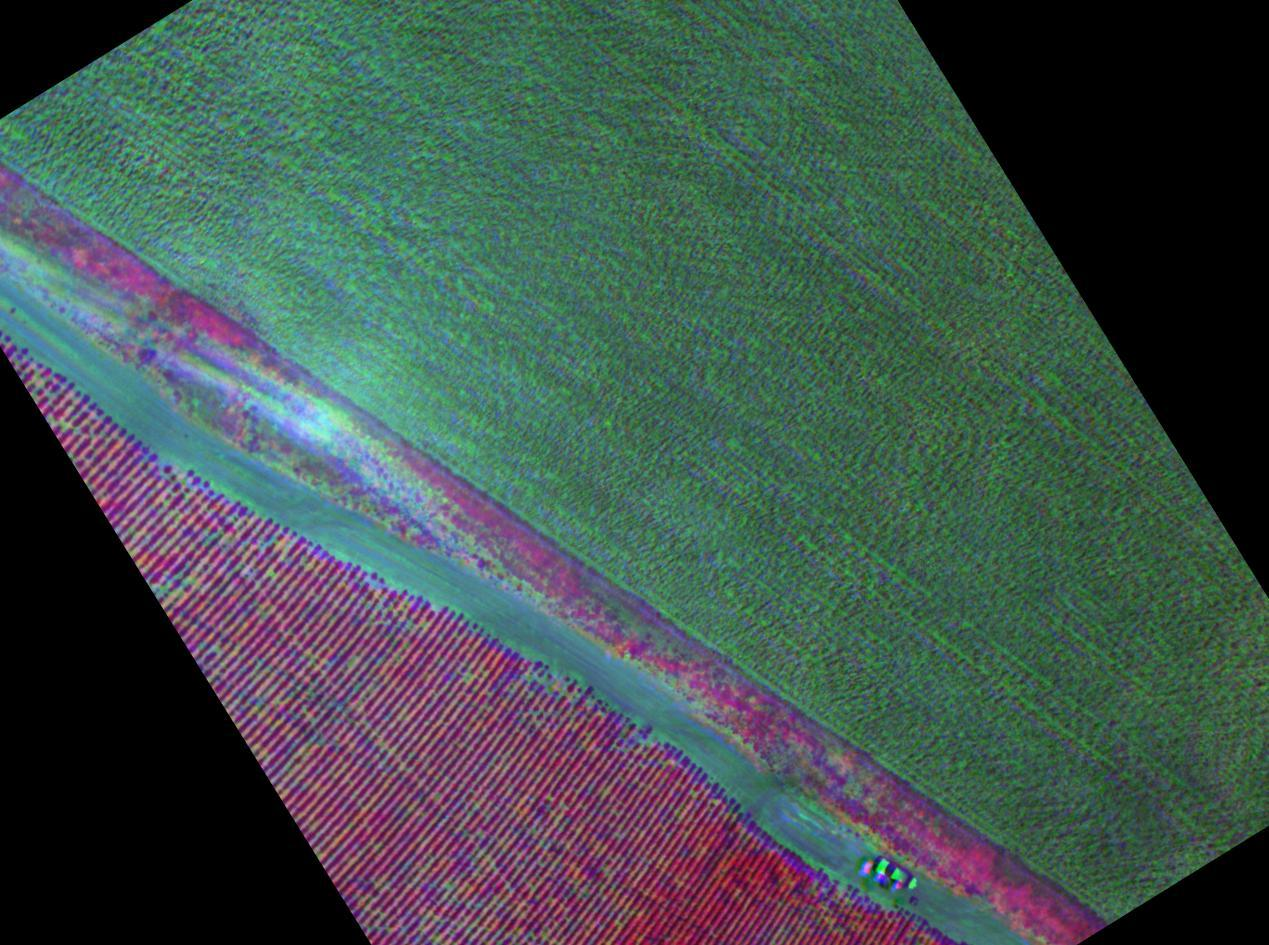dc: (420, 856, 486, 923), (146, 560, 210, 609), (511, 670, 581, 714), (38, 380, 90, 439), (249, 536, 313, 579)
